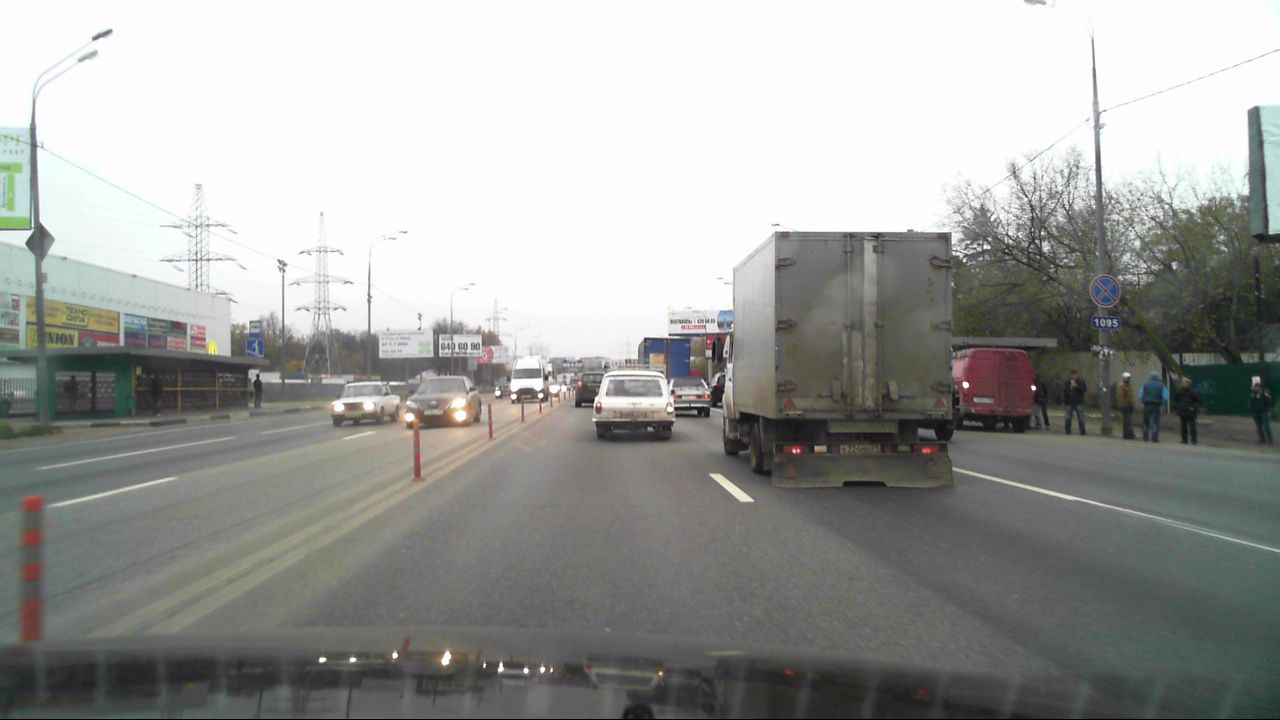No Parking: (1090, 274, 1123, 309)
